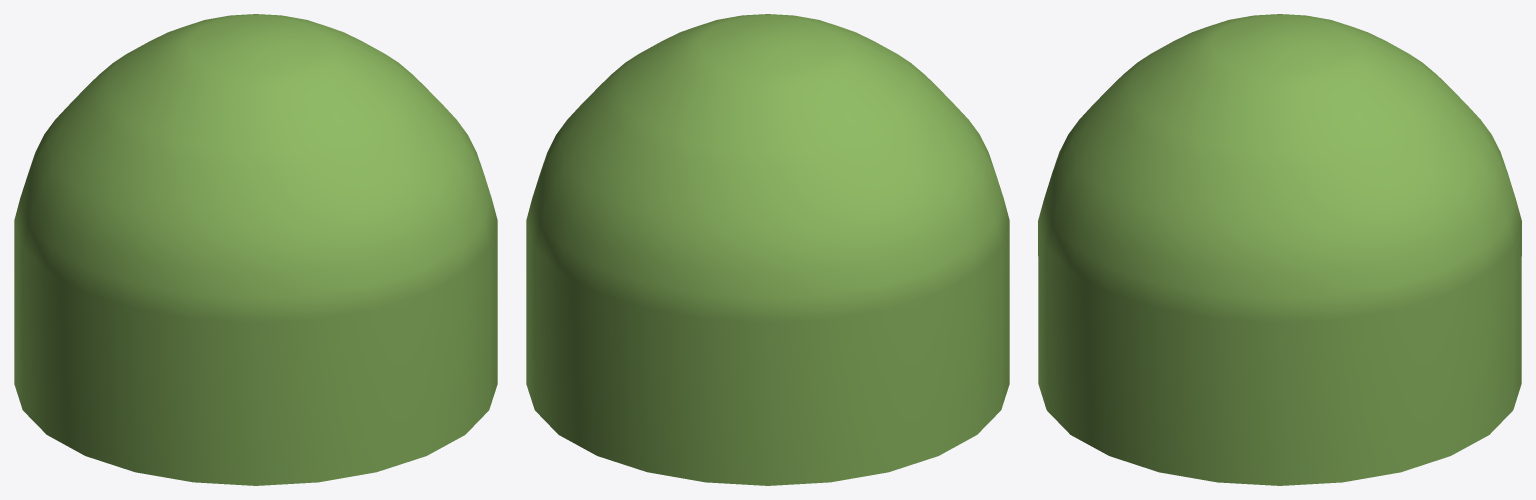
File: PhilodendronSelloum.glb
3 renders of one model, left to right at view 1: azimuth 30°, elevation 25°; view 2: azimuth 150°, elevation 25°; view 3: azimuth 270°, elevation 25°, orthographic.
Visible parts, largest first — view 1: Lacy_Tree_Philodendron__Schematic_LOD3; view 2: Lacy_Tree_Philodendron__Schematic_LOD3; view 3: Lacy_Tree_Philodendron__Schematic_LOD3.
Boxes of the visible parts, x1,y1,x2,y2 form: Lacy_Tree_Philodendron__Schematic_LOD3: (14,14,497,485); Lacy_Tree_Philodendron__Schematic_LOD3: (526,14,1009,485); Lacy_Tree_Philodendron__Schematic_LOD3: (1038,14,1521,485).
Size of the model in its own units: 1.98 by 1.57 by 1.98.
